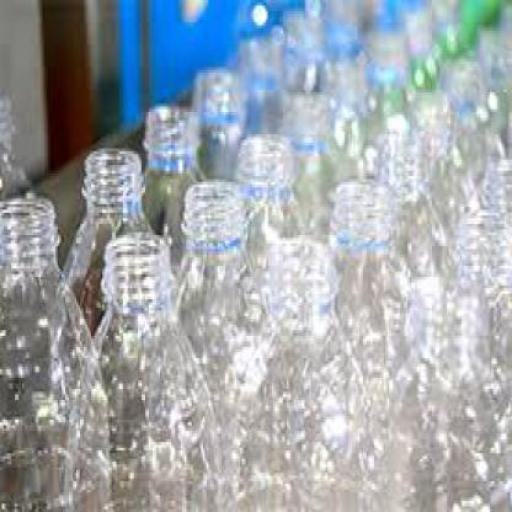plastic: (62, 229, 222, 509), (204, 235, 363, 510), (0, 187, 111, 510), (328, 174, 430, 510), (430, 156, 510, 510), (174, 176, 254, 417), (355, 129, 449, 324), (56, 142, 152, 331), (404, 86, 477, 240), (233, 126, 309, 260), (318, 45, 387, 177), (281, 90, 337, 244), (437, 56, 505, 182), (139, 101, 203, 229), (192, 64, 246, 176), (374, 0, 439, 92), (469, 20, 511, 154), (355, 14, 408, 112), (234, 34, 280, 128), (270, 11, 318, 92), (304, 0, 374, 53), (0, 87, 30, 196), (430, 0, 475, 57), (462, 0, 510, 26), (496, 2, 510, 48)
